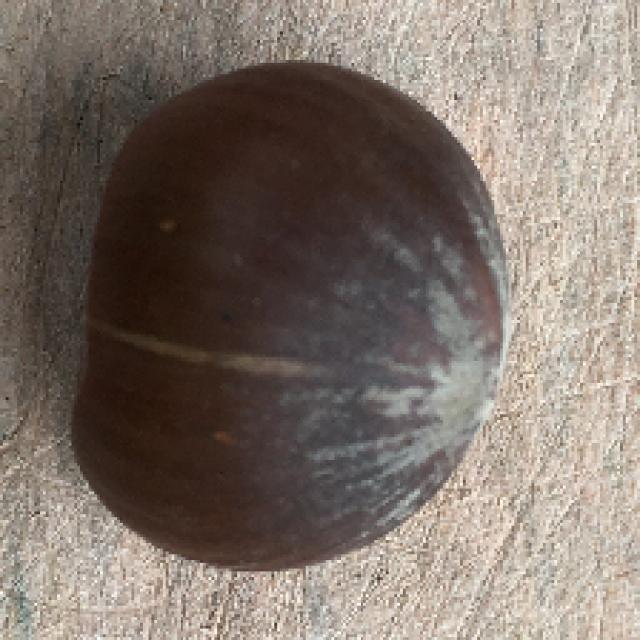damagedHazelnut: (74, 60, 516, 575)
